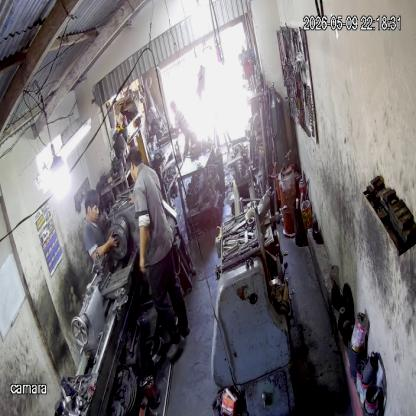sin_lentes: (91, 204, 101, 214)
